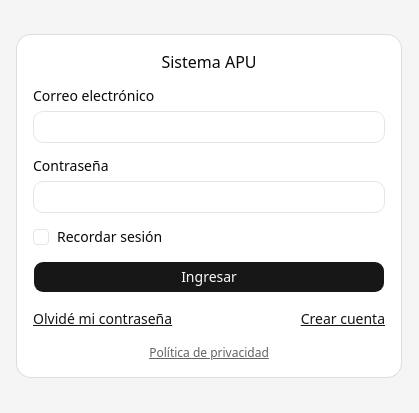
it: LoginPage › muestra mensaje genérico para credenciales inválidas (anti-enumeración)
Type "no-existe@ejemplo.ec" into the field labelled "Correo electrónico". click: (209, 127)
box: [33, 111, 385, 143]
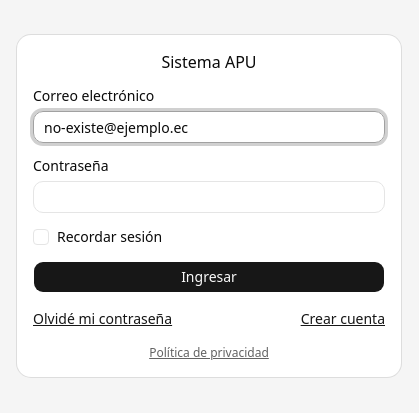
Type "abc12345" into the password field labelled "Contraseña". click: (209, 197)
box: [33, 181, 385, 213]
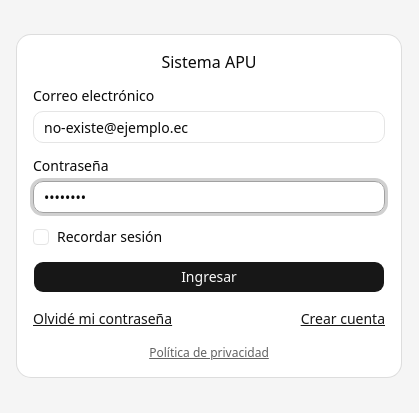
Click the button "Ingresar". click: (209, 277)
box: [33, 261, 385, 293]
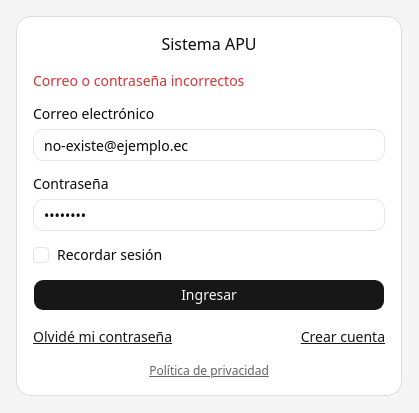
expect the text "Correo o contraseña incorrectos" is shown: met, box [33, 71, 244, 90]
